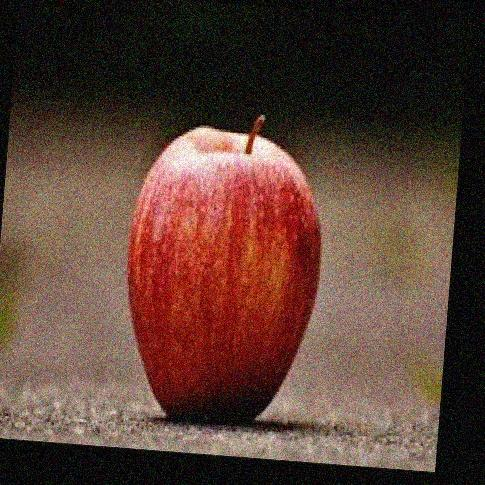red apple: (124, 121, 320, 422)
